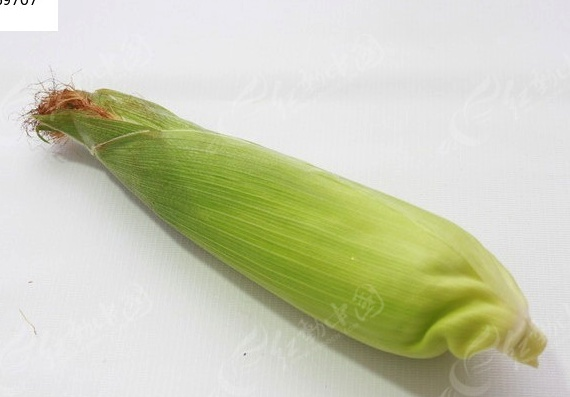corn_plant: (19, 67, 559, 378)
